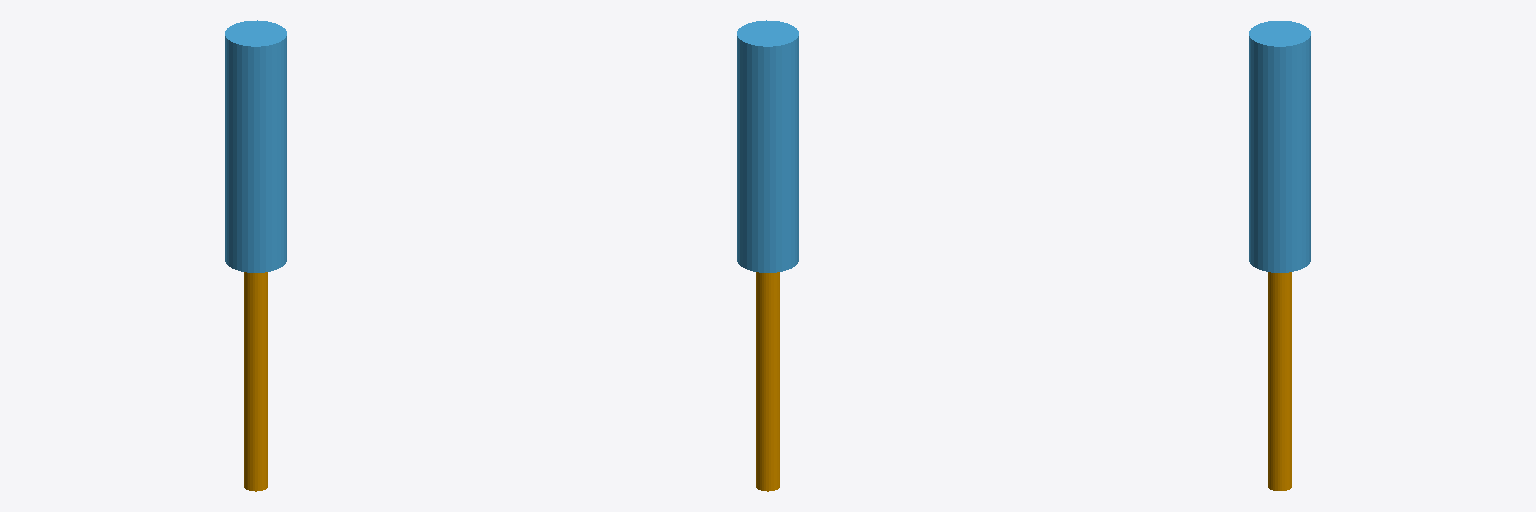
robot.urdf — screwdriver_on_the_table:
<?xml version="1.0" ?>
<!-- this is the one without any virtual joints and links -->
<robot name="screwdriver_on_the_table">
<link name="screwdriver_stick">
    <inertial>
      <mass value="0.05"/>
      <!-- <friction value="1.0"/> -->
      <inertia ixx="0.000041979" ixy="0.0" ixz="0.0" iyy="0.000041979" iyz="0.0" izz="0.000000625"/>
    </inertial>
    <visual>
        <origin rpy="0 0 0" xyz="0 0 0.05"/>
        <geometry>
            <cylinder radius="0.005" length="0.1"/>
        </geometry>
        <!-- <material name="White">
	 	    <color rgba="0.9 0.9 0.9 0.5"/>
        </material> -->
    </visual>
    <collision>
        <origin rpy="0 0 0" xyz="0 0 0.05"/>
        <geometry>
            <cylinder radius="0.005" length="0.1"/>
        </geometry>
    </collision>
</link>

<gazebo reference="screwdriver_body">
    <mu1>0.505366</mu1>
    <mu2>1.174952</mu2>
    <!-- Isaac Sim maps mu1/mu2 to PhysX static/dynamic friction during URDF→USD import -->
</gazebo>

<joint name="screwdriver_stick_body_joint" type="fixed">
    <parent link="screwdriver_stick"/>
    <child link="screwdriver_body"/>
    <origin rpy="0 0 0" xyz="0 0 0.1"/> 
    <axis xyz="0 0 1"/>
</joint>

<link name="screwdriver_body">
    <inertial>
      <mass value="0.141370"/>
      <inertia ixx="0.000123287" ixy="0.0" ixz="0.0" iyy="0.000123287" iyz="0.0" izz="0.000010958"/>
    </inertial>
    <visual>
        <origin rpy="0 0 0" xyz="0 0 0.05"/>
        <geometry>
            <cylinder radius="0.012451" length="0.1"/>
        </geometry>
        <!-- <material name="Red1">
	 	    <color rgba="0.9 0. 0. 0.5"/>
        </material> -->
    </visual>
    <collision>
        <origin rpy="0 0 0" xyz="0 0 0.05"/>
        <geometry>
            <cylinder radius="0.012451" length="0.1"/>
        </geometry>
    </collision>
</link>

<!-- <joint name="screwdriver_body_cap_joint" type="revolute">
    <parent link="screwdriver_body"/>
    <child link="screwdriver_cap"/>
    <origin rpy="0 0 0" xyz="0 0 0.1"/> 
    <axis xyz="0 0 1"/>
</joint>

<link name="screwdriver_cap">
    <inertial>
      <mass value="0.005"/>
      <inertia ixx="0.00001" ixy="0.0" ixz="0.0" iyy="0.000005" iyz="0.0" izz="0.000005"/>
    </inertial>
    <visual>
        <origin rpy="0 0 0" xyz="0 0 0.0006"/>
        <geometry>
            <cylinder radius="0.02" length="0.001"/>
        </geometry>
        <material name="Yellow">
	 	    <color rgba="0.9 0.9 0. 1.0"/>
        </material>
    </visual>
    <collision>
        <origin rpy="0 0 0" xyz="0 0 0.0005"/>
        <geometry>
            <cylinder radius="0.02" length="0.001"/>
        </geometry>
    </collision>
</link> -->

</robot>

--- Render facts (derived) ---
Views: 3 orthographic renders of the robot side by side, from view 1: azimuth 30°, elevation 25°; view 2: azimuth 150°, elevation 25°; view 3: azimuth 270°, elevation 25°.
Model screwdriver_on_the_table with 2 links and 1 joints (1 fixed), rooted at screwdriver_stick, posed all joints at 0.
Visible links, largest first — view 1: screwdriver_body, screwdriver_stick; view 2: screwdriver_body, screwdriver_stick; view 3: screwdriver_body, screwdriver_stick.
Boxes of the visible links, x1,y1,x2,y2 form: screwdriver_body: [225, 20, 286, 272]; screwdriver_stick: [244, 272, 267, 491]; screwdriver_body: [737, 20, 798, 272]; screwdriver_stick: [756, 272, 779, 491]; screwdriver_body: [1249, 21, 1310, 272]; screwdriver_stick: [1268, 272, 1291, 490].
Size in the robot's own frame: 0.0249 by 0.0249 by 0.2 metres.
Geometry: primitives only (box / cylinder / sphere), no mesh files.
